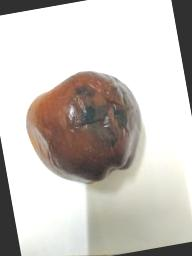Apple Rotten: (3, 54, 166, 200)
